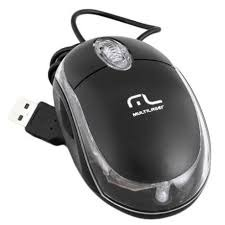mouse: (42, 0, 217, 223)
